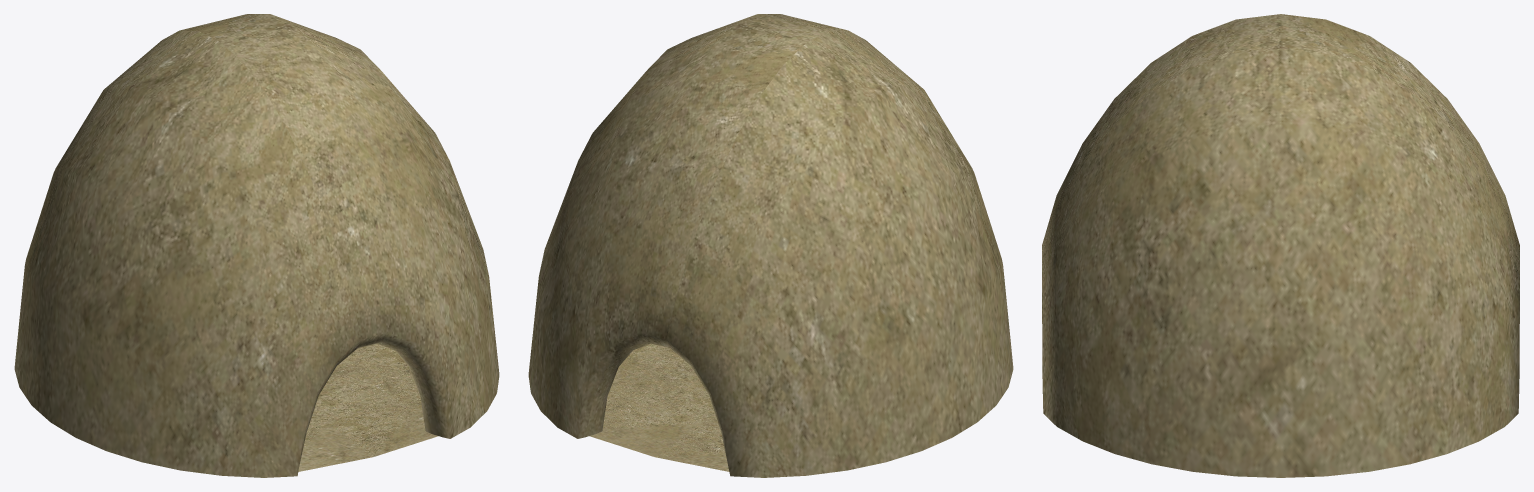
Rendered from sandigloo1.obj.
The picture shows the model from 3 angles, left to right: view 1: azimuth 30°, elevation 25°; view 2: azimuth 150°, elevation 25°; view 3: azimuth 270°, elevation 25°; orthographic projection.
Size of the model in its own units: 4.7 by 3.68 by 4.64.
